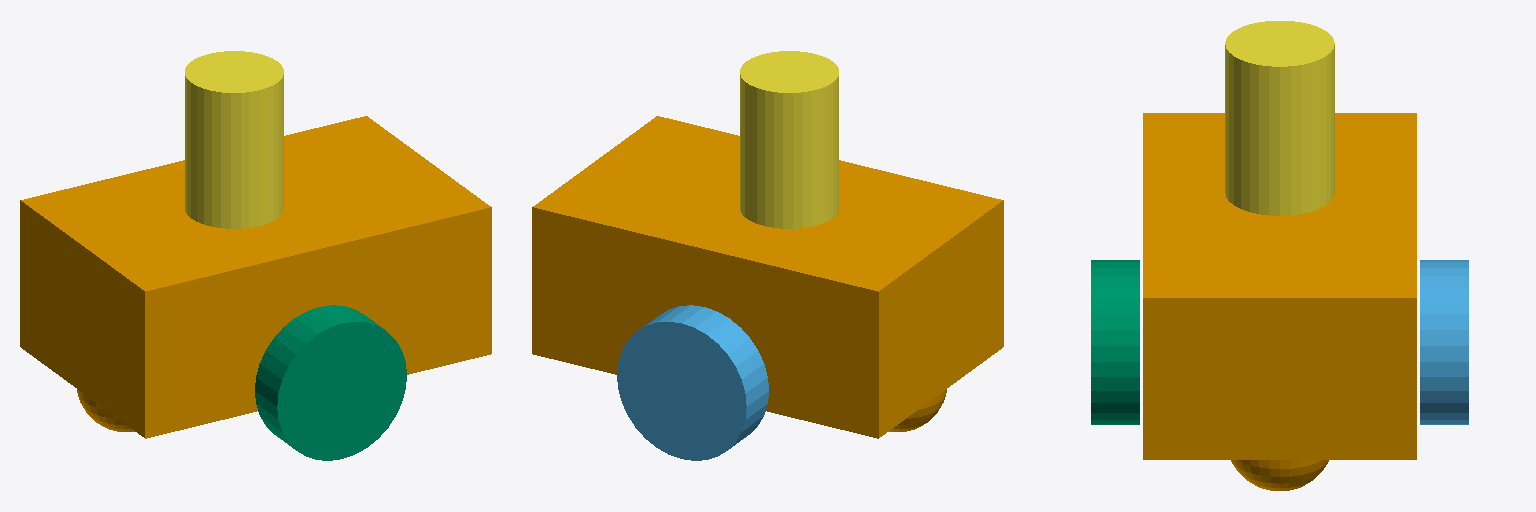
URDF robot description (scanbot):
<?xml version="1.0" ?>
<robot name="scanbot">

  <link name="base_link">
    <inertial>
      <mass value="0.5"/>
      <origin xyz="0 0 0" rpy="0 0 0"/>
      <inertia ixx="0.00059270833" ixy="0" ixz="0" iyy="0.00124270833" iyz="0" izz="0.00148333333"/>
    </inertial>
    <collision name="scanbot_base_collision">
      <origin xyz="0 0 0.05" rpy="0 0 0"/>
      <geometry>
        <box size="0.160 0.100 0.065"/>
      </geometry>
    </collision>
    <collision name="scanbot_caster_collision">
      <origin xyz="0.06 0 0.0175" rpy="0 0 0"/>
      <geometry>
        <sphere radius="0.02"/>
      </geometry>
    </collision>
    <collision name="scanbot_caster2_collision">
      <origin xyz="-0.06 0 0.0175" rpy="0 0 0"/>
      <geometry>
        <sphere radius="0.02"/>
      </geometry>
    </collision>
    <visual name="scanbot_base_visual">
      <origin xyz="0 0 0.05" rpy="0 0 0"/>
      <geometry>
        <box size="0.160 0.100 0.065"/>
      </geometry>
    </visual>
    <visual name="scanbot_caster_visual">
      <origin xyz="0.06 0 0.0175" rpy="0 0 0"/>
      <geometry>
        <sphere radius="0.02"/>
      </geometry>
    </visual>
    <visual name="scanbot_caster2_visual">
      <origin xyz="-0.06 0 0.0175" rpy="0 0 0"/>
      <geometry>
        <sphere radius="0.02"/>
      </geometry>
    </visual>
  </link>

  <link name="scanbot_left_wheel">
    <inertial>
      <mass value="0.075"/>
      <origin xyz="0 0 0" rpy="0 0 0"/>
      <inertia ixx="0.0000189" ixy="0" ixz="0" iyy="0.0000189" iyz="0" izz="0.00003375"/>
    </inertial>
    <collision name="scanbot_left_wheel_collision">
      <origin xyz="0 0 0.01" rpy="0 0 0"/>
      <geometry>
        <cylinder radius="0.03" length="0.018"/>
      </geometry>
    </collision>
    <visual name="scanbot_left_wheel_visual">
      <origin xyz="0 0 0.01" rpy="0 0 0"/>
      <geometry>
        <cylinder radius="0.03" length="0.018"/>
      </geometry>
    </visual>
  </link>

  <link name="scanbot_right_wheel">
    <inertial>
      <mass value="0.075"/>
      <origin xyz="0 0 0" rpy="0 0 0"/>
      <inertia ixx="0.0000189" ixy="0" ixz="0" iyy="0.0000189" iyz="0" izz="0.00003375"/>
    </inertial>
    <collision name="scanbot_right_wheel_collision">
      <origin xyz="0 0 -0.01" rpy="0 0 0"/>
      <geometry>
        <cylinder radius="0.03" length="0.018"/>
      </geometry>
    </collision>
    <visual name="scanbot_right_wheel_visual">
      <origin xyz="0 0 -0.01" rpy="0 0 0"/>
      <geometry>
        <cylinder radius="0.03" length="0.018"/>
      </geometry>
    </visual>
  </link>

  <link name="scanbot_tower">
    <inertial>
      <mass value="0.050"/>
      <origin xyz="0 0 0" rpy="0 0 0"/>
      <inertia ixx="0.00002" ixy="0" ixz="0" iyy="0.00002" iyz="0" izz="0.00001"/>
    </inertial>
    <collision name="scanbot_tower_collision">
      <origin xyz="0 0 0.03" rpy="0 0 0"/>
      <geometry>
        <cylinder radius="0.02" length="0.06"/>
      </geometry>
    </collision>
    <visual name="scanbot_tower_visual">
      <origin xyz="0 0 0.03" rpy="0 0 0"/>
      <geometry>
        <cylinder radius="0.02" length="0.06"/>
      </geometry>
    </visual>
  </link>

  <joint name="scanbot_left_wheel_revolute" type="continuous">
    <parent link="base_link"/>
    <child link="scanbot_left_wheel"/>
    <origin xyz="0 0.05 0.02749" rpy="0 1.5707 1.5707"/>
    <axis xyz="0 0 1"/>
    <!-- effort is % and velocity is rad/s -->
    <limit effort="80" velocity="25.1327412287"/>
  </joint>

  <joint name="scanbot_right_wheel_revolute" type="continuous">
    <parent link="base_link"/>
    <child link="scanbot_right_wheel"/>
    <origin xyz="0 -0.05 0.0275" rpy="0 1.5707 1.5707"/>
    <axis xyz="0 0 1"/>
    <!-- effort is % and velocity is rad/s -->
    <limit effort="80" velocity="25.1327412287"/>
  </joint>

  <!-- for now immobilize and use a sensor with multiple rays -->
  <joint name="scanbot_tower_revolute" type="revolute">
    <parent link="base_link"/>
    <child link="scanbot_tower"/>
    <origin xyz="-0.01 0 0.083" rpy="0 0 0"/>
    <axis xyz="0 0 1"/>
    <limit lower="0" upper="0" effort="0" velocity="0"/>
  </joint>

  <transmission name="scanbot_left_wheel_transmission">
    <type>transmission_interface/SimpleTransmission</type>
    <joint name="scanbot_left_wheel_revolute">
      <hardwareInterface>hardware_interface/VelocityJointInterface</hardwareInterface>
    </joint>
    <actuator name="scanbot_left_wheel_revolute">
      <mechanicalReduction>1</mechanicalReduction>
    </actuator>
  </transmission>

  <transmission name="scanbot_right_wheel_transmission">
    <type>transmission_interface/SimpleTransmission</type>
    <joint name="scanbot_right_wheel_revolute">
      <hardwareInterface>hardware_interface/VelocityJointInterface</hardwareInterface>
    </joint>
    <actuator name="scanbot_right_wheel_revolute">
      <mechanicalReduction>1</mechanicalReduction>
    </actuator>
  </transmission>

  <transmission name="scanbot_tower_transmission">
    <type>transmission_interface/SimpleTransmission</type>
    <joint name="scanbot_tower_revolute">
      <hardwareInterface>hardware_interface/VelocityJointInterface</hardwareInterface>
    </joint>
    <actuator name="scanbot_tower_revolute">
      <mechanicalReduction>1</mechanicalReduction>
    </actuator>
  </transmission>

  <gazebo>
    <plugin name="gazebo_ros_control" filename="libgazebo_ros_control.so">
      <robotNamespace>/scanbot</robotNamespace>
      <robotParam>robot_description</robotParam>
      <robotSimType>gazebo_ros_control/DefaultRobotHWSim</robotSimType>
    </plugin>
  </gazebo>

  <gazebo reference="scanbot_tower">
    <sensor type="ray" name="lidar">
      <pose>0 0 0 0 0 0</pose>
      <always_on>true</always_on>
      <visualize>true</visualize>
      <update_rate>4</update_rate>
      <ray>
        <scan>
          <horizontal>
            <!-- number of beams = samples * resolution -->
            <samples>180</samples>
            <resolution>1</resolution>
            <min_angle>1.57079632679</min_angle>
            <max_angle>4.71238898038</max_angle>
          </horizontal>
        </scan>
        <range>
          <min>0.2</min>
          <max>8</max>
          <resolution>0.06</resolution>
        </range>
        <noise>
          <type>gaussian</type>
          <mean>0.0</mean>
          <stddev>0.06</stddev>
        </noise>
      </ray>

      <!--
      <plugin name="gazebo_ros_range" filename="libgazebo_ros_range.so">
        <ros>
          <remapping>~/out:=scan</remapping>
        </ros>
        <output_type>sensor_msgs/LaserScan</output_type>
        <frame_name>sensor</frame_name>
      </plugin>
      -->

      <plugin name="gazebo_ros_laser" filename="libgazebo_ros_laser.so">
        <topicName>/scanbot/scan</topicName>
        <frameName>scanbot_tower</frameName>
      </plugin>
    </sensor>
  </gazebo>
</robot>

--- Facts derived from the render (not from the file) ---
The picture shows the robot from 3 angles, left to right: view 1: azimuth 30°, elevation 25°; view 2: azimuth 150°, elevation 25°; view 3: azimuth 270°, elevation 25°; orthographic projection.
Robot: scanbot — 4 links, 3 joints (1 revolute, 2 continuous); root link base_link; default pose: all joints at 0.
Visible links, largest first — view 1: base_link, scanbot_right_wheel, scanbot_tower; view 2: base_link, scanbot_left_wheel, scanbot_tower; view 3: base_link, scanbot_tower, scanbot_left_wheel, scanbot_right_wheel.
Boxes of the visible links, <box> form: base_link: <box>20,116,491,438</box>; scanbot_right_wheel: <box>255,305,406,460</box>; scanbot_tower: <box>185,51,283,228</box>; base_link: <box>532,116,1003,438</box>; scanbot_left_wheel: <box>617,305,768,460</box>; scanbot_tower: <box>740,51,838,228</box>; base_link: <box>1143,113,1416,490</box>; scanbot_tower: <box>1225,21,1334,215</box>; scanbot_left_wheel: <box>1420,260,1468,424</box>; scanbot_right_wheel: <box>1091,260,1139,424</box>.
Size in the robot's own frame: 0.16 by 0.138 by 0.1455 metres.
Geometry: primitives only (box / cylinder / sphere), no mesh files.
